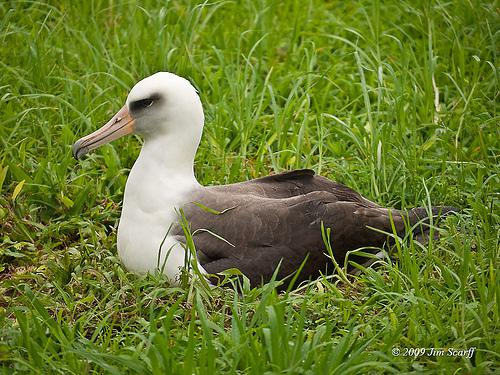002.Laysan_Albatross: (71, 72, 463, 302)
